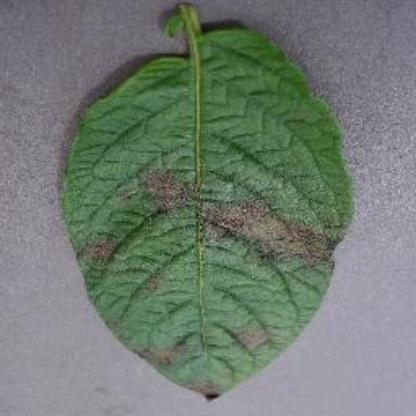Late-Blight: (31, 7, 369, 415)
